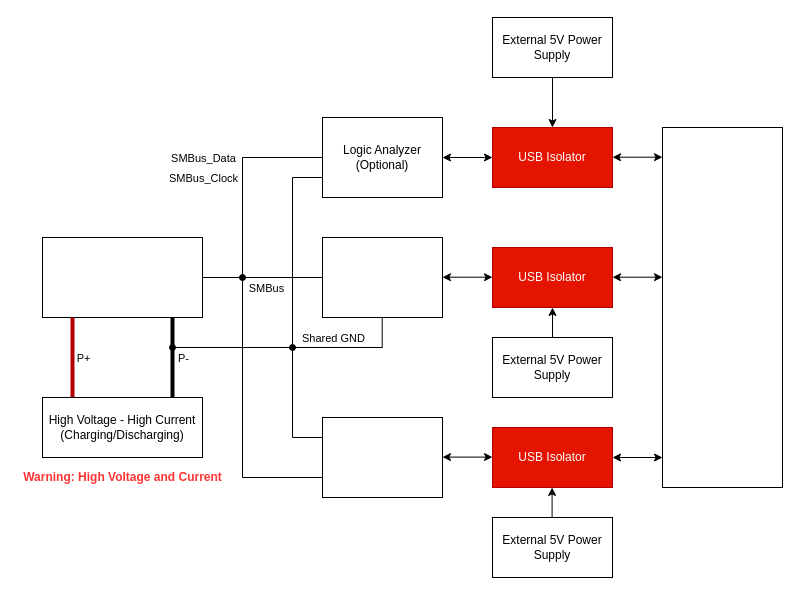
The diagram is 800 pixels wide and 595 high, and some of its shapes have lost their labels. Here are the shapes that lost their labels. From the top down, the box of each, then its label:
(42, 236, 202, 318): BMS
(322, 236, 442, 318): EV2400 (Optional)
(662, 126, 782, 488): PC/Laptop
(322, 416, 442, 498): TIVAC
